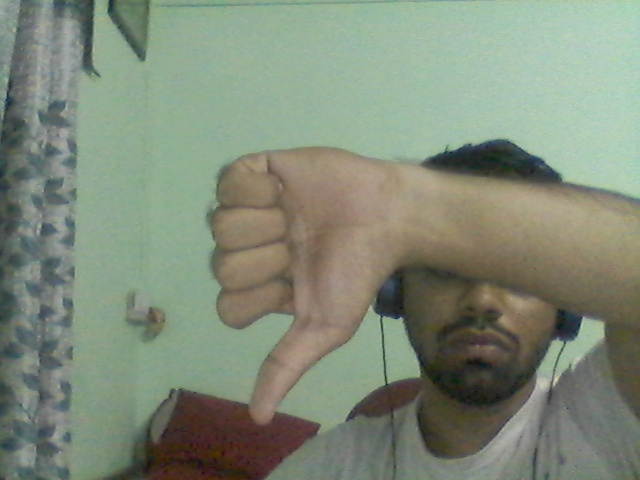No: (166, 78, 433, 470)
